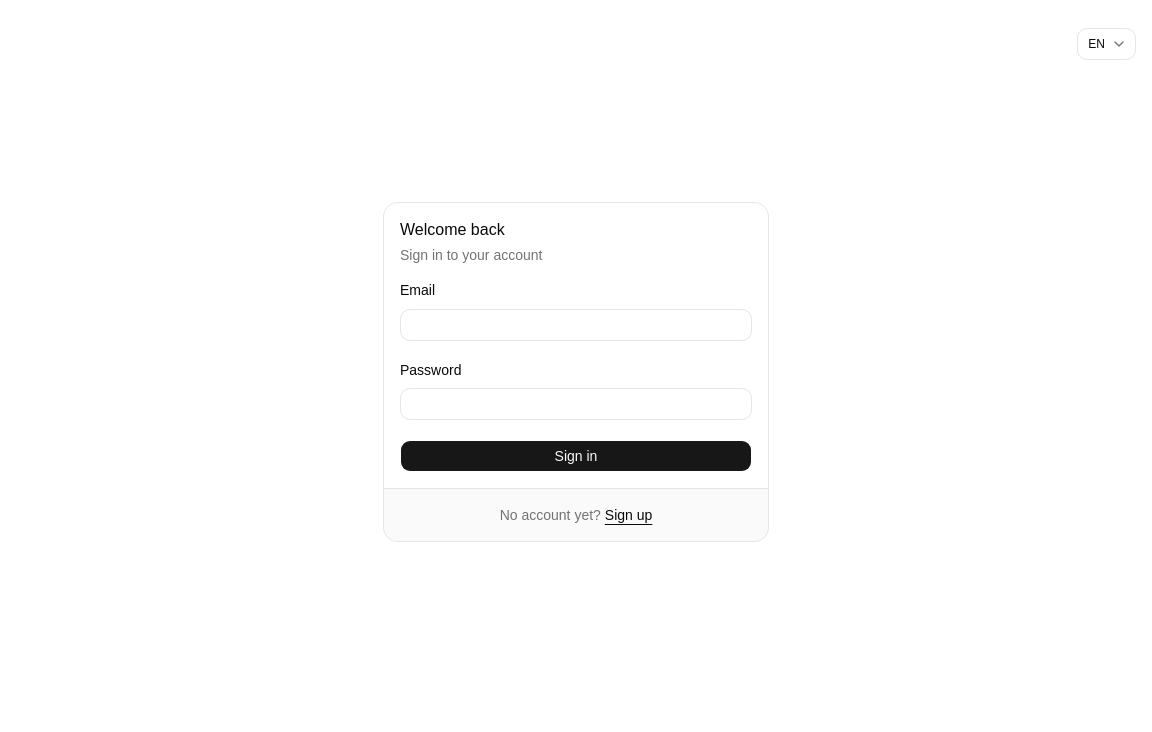
Scenario: SignInPage › submits the credentials and goes home on success
Type "User@Example.com" into the field labelled "Email" at (576, 324), box [400, 308, 752, 340]
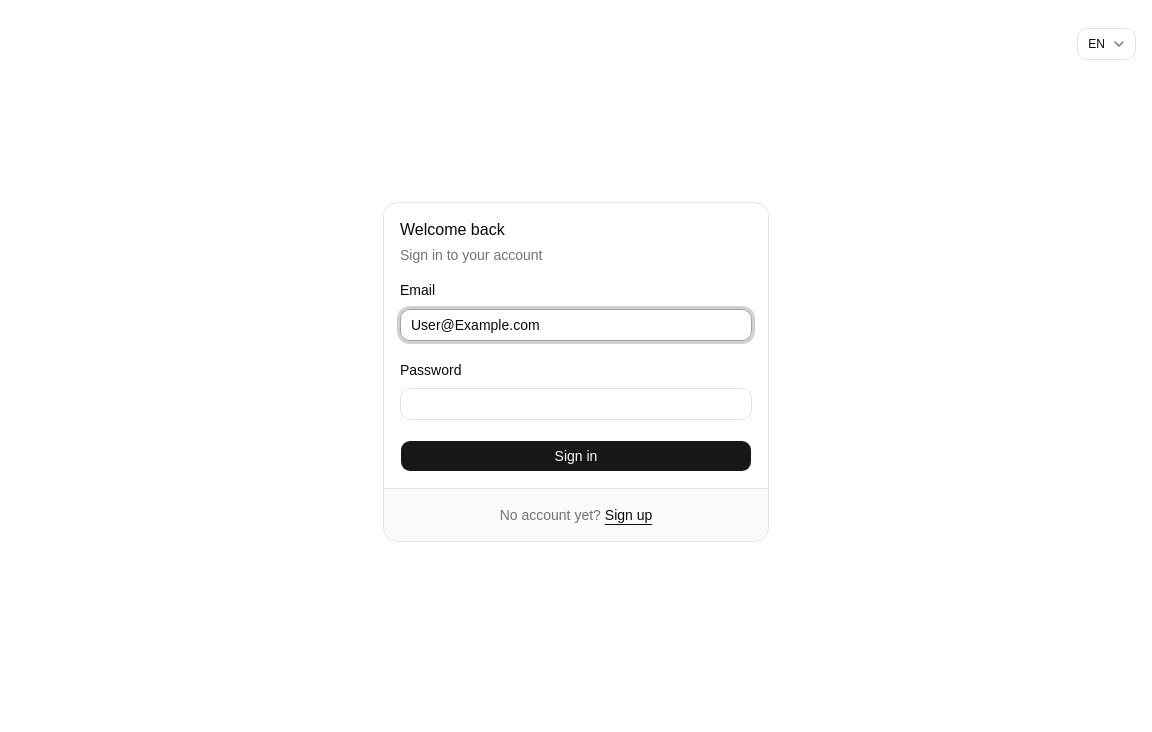
Type "correct-horse" into the password field labelled "Password" at (576, 404), box [400, 388, 752, 420]
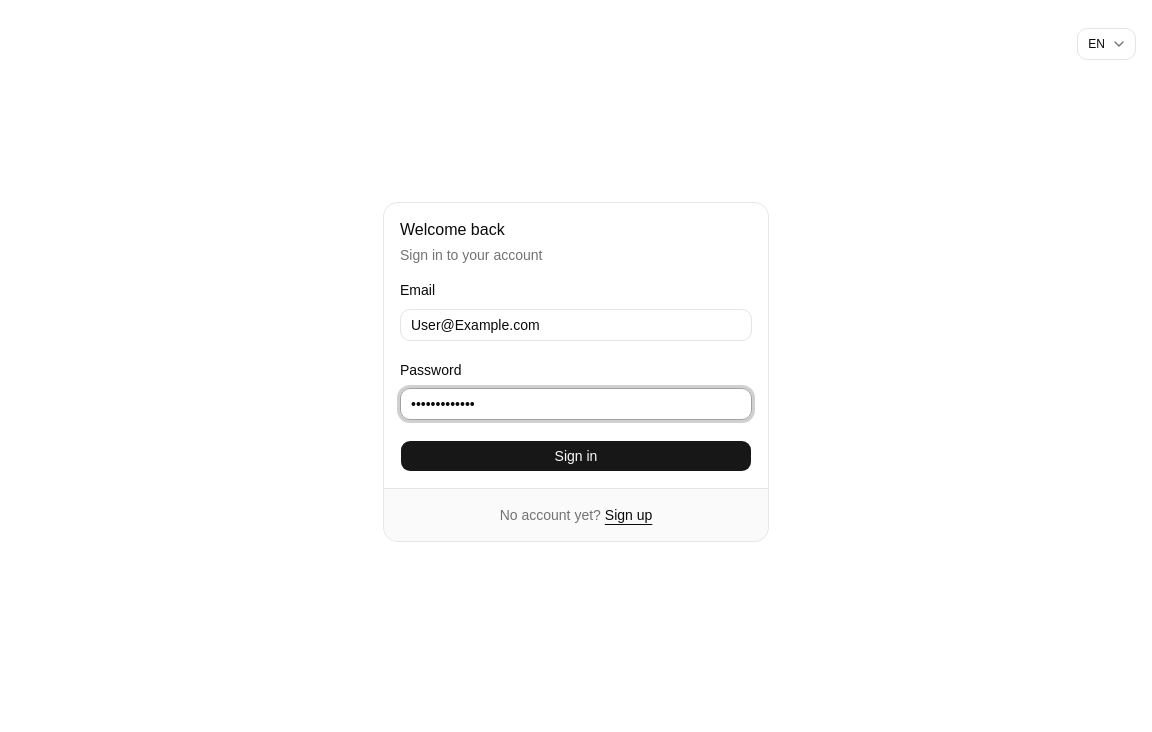
Click the button "Sign in" at (576, 456), box [400, 440, 752, 472]
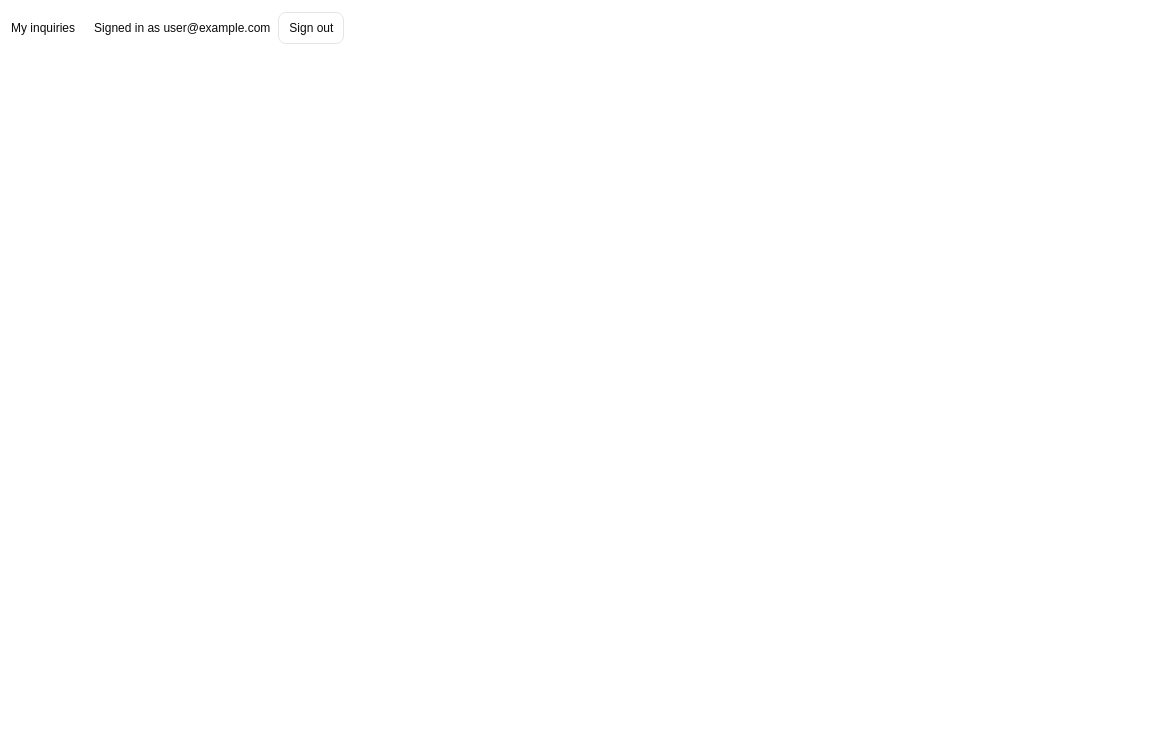
Now the text "Signed in as" is shown, box [94, 21, 160, 35]
